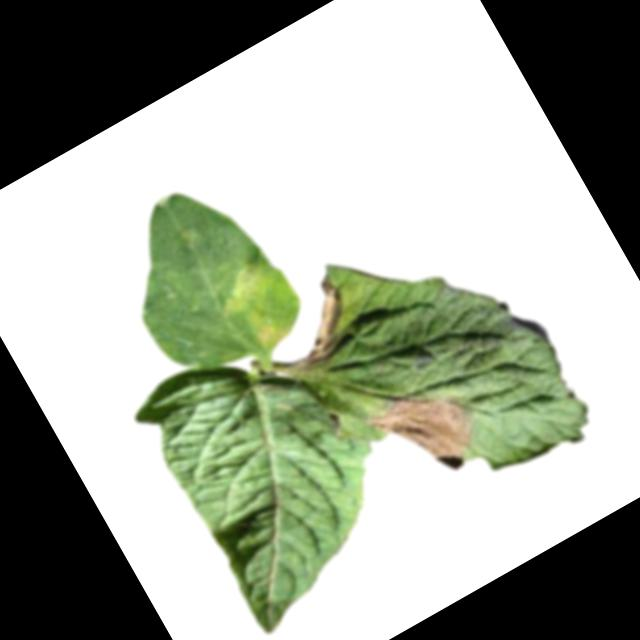Late_blight: (364, 367, 493, 496), (209, 248, 315, 361), (264, 270, 370, 376)
healthy: (124, 305, 426, 638)
